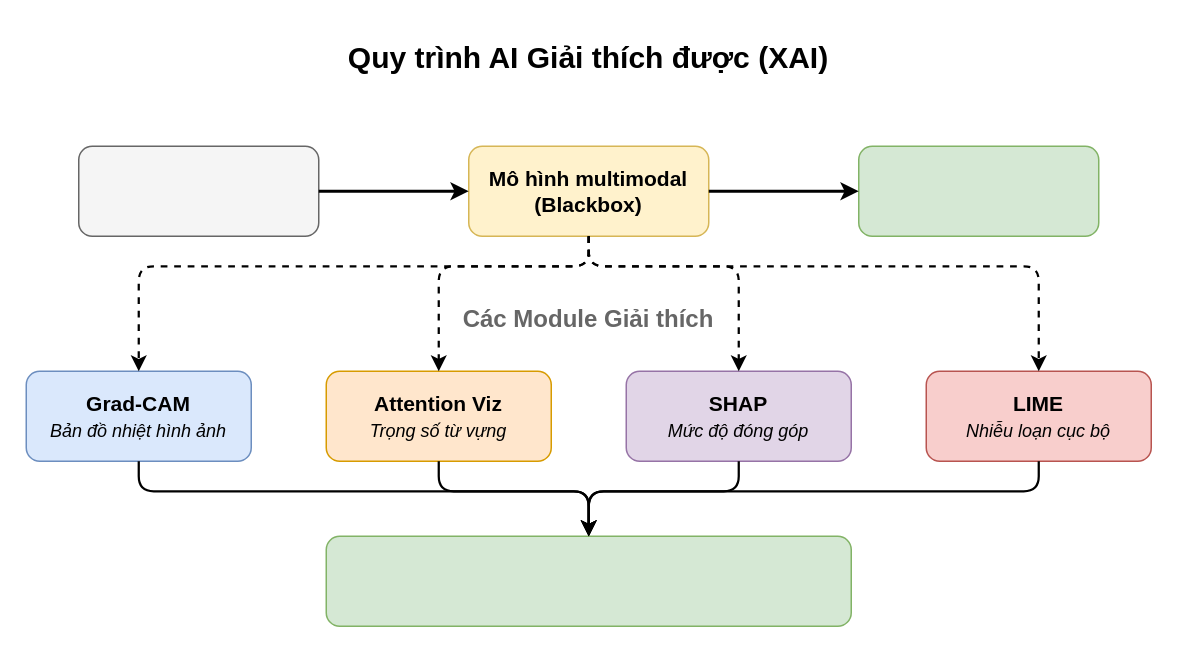
This 1178x653 diagram has some shape labels left out. The shapes that lost their labels are listed below. From the top down, each one's centre as x and y in pixels, then its label:
point 198,190: Đầu vào đa phương thức (Hình ảnh + Văn bản)
point 978,190: Điểm dự đoán (5 tiêu chí)
point 588,580: Báo cáo giải thích Phân tích định tính
